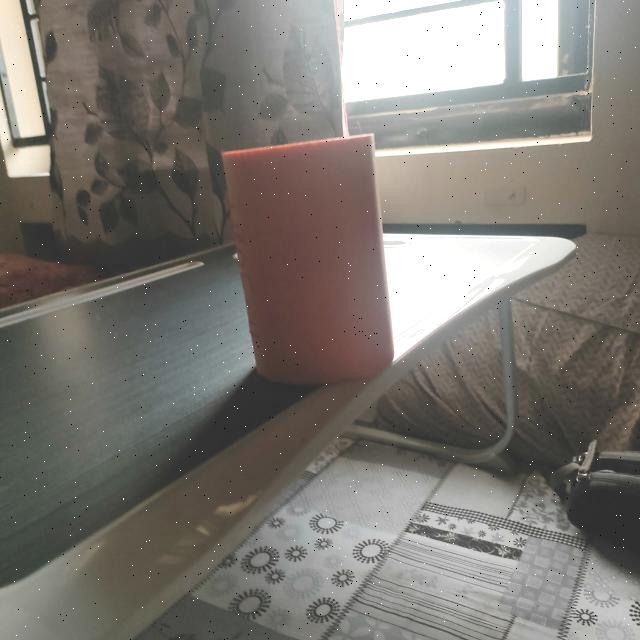Cylinder: (219, 132, 395, 386)
